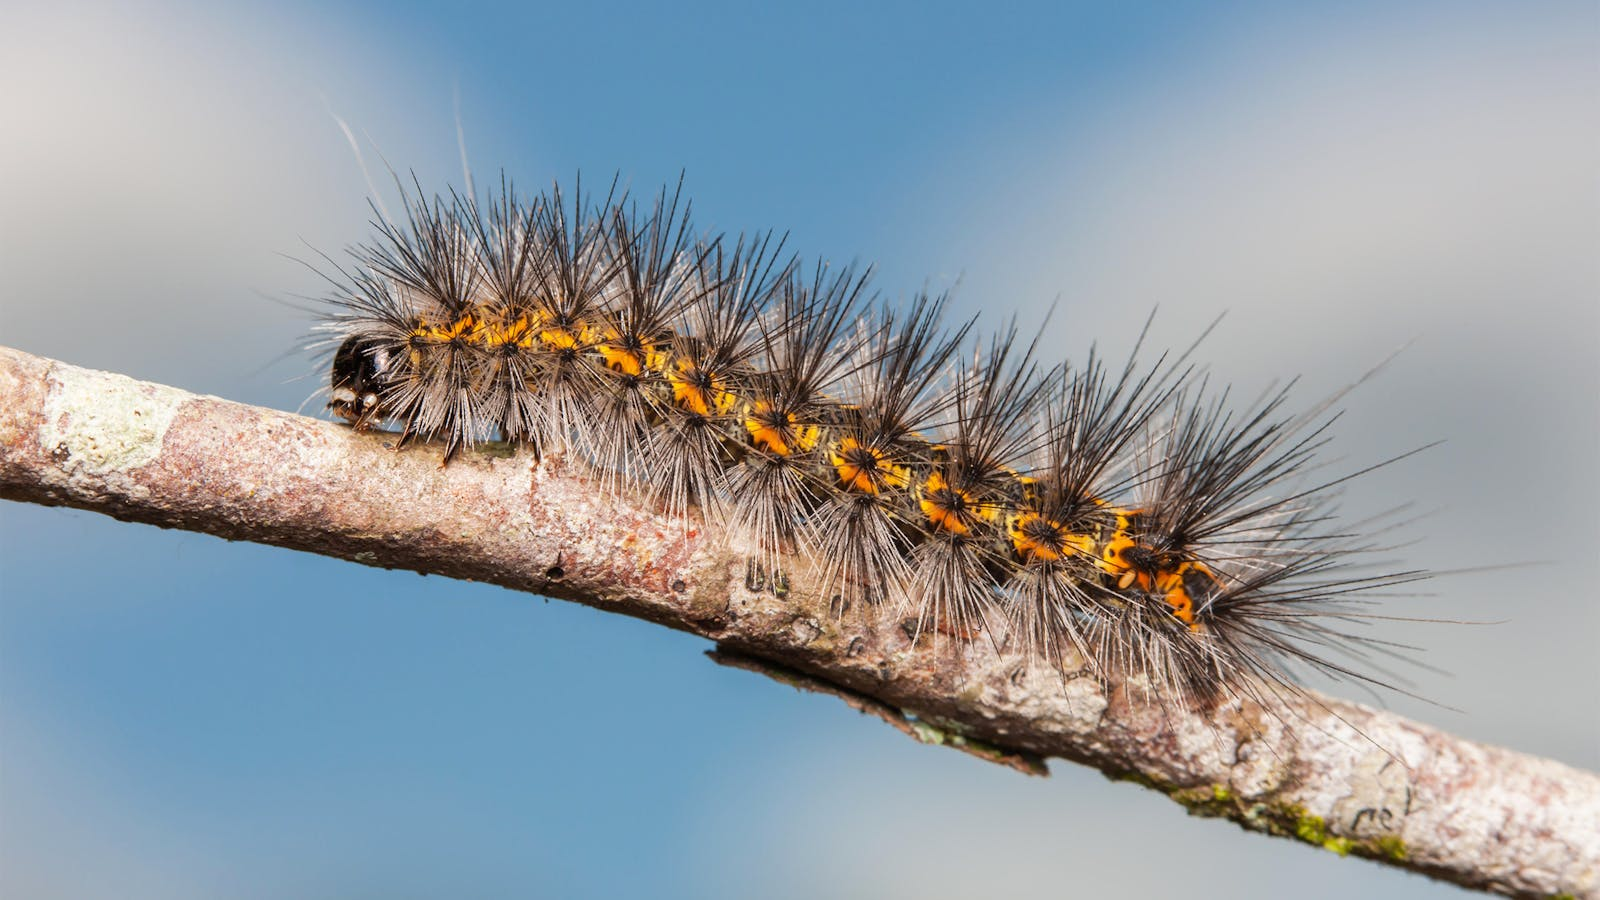Caterpillar: (318, 171, 1427, 697)
